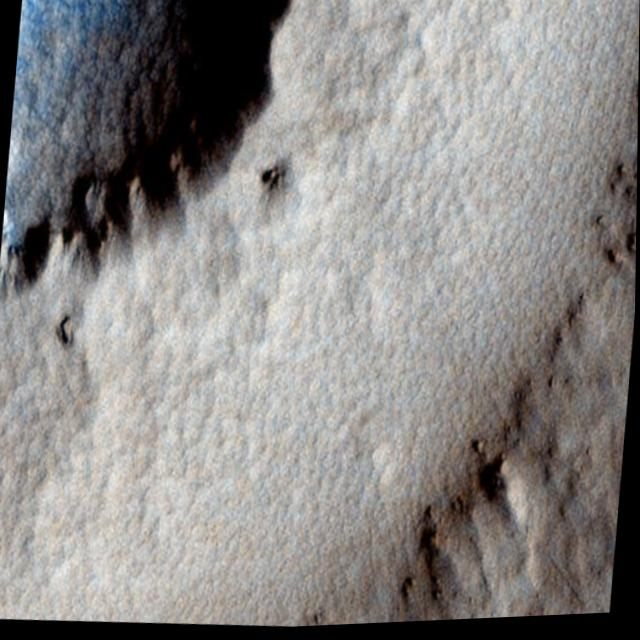Crater: (0, 0, 640, 640), (0, 0, 407, 443)
